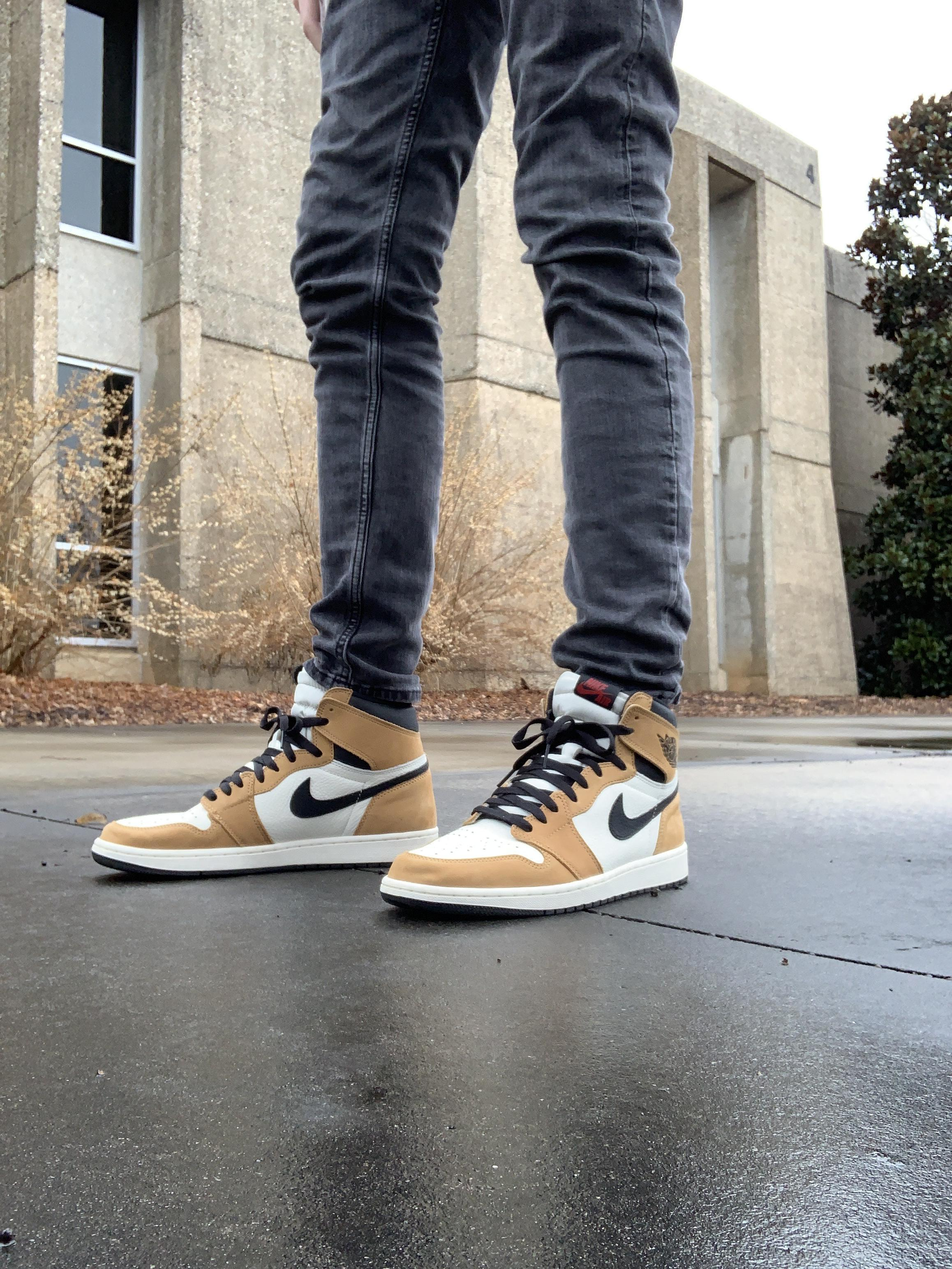sneaker: (381, 660, 695, 918), (87, 664, 442, 879)
